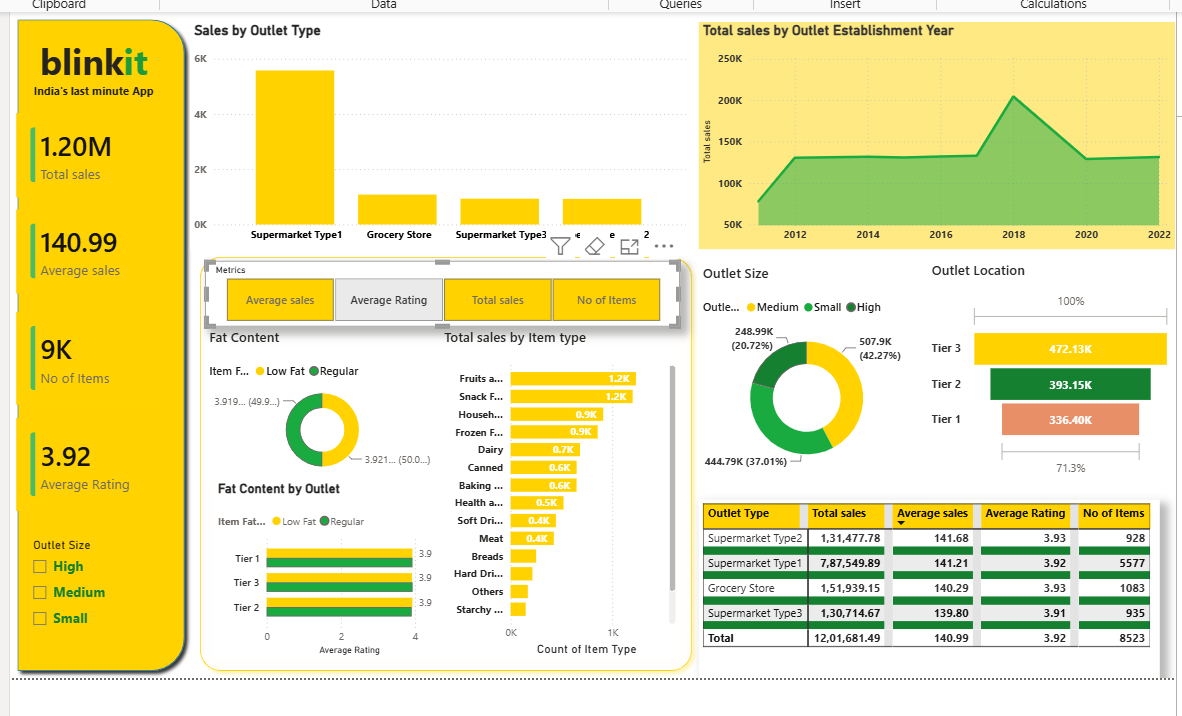

Layout of this report page (visuals, bound fields, positions):
{"tool":"powerbi","page":{"name":"Page 2","canvas":[1400,800],"ordinal":0},"visuals":[{"type":"shape","box":[0,0,218.8,800.3],"z":0},{"type":"textbox","box":[0,24.5,201.1,137.2],"z":1000},{"type":"shape","box":[218.8,285.3,608.7,514.9],"z":3000},{"type":"donutChart","title":"Fat Content","fields":{"Category":["BlinkIT Grocery Data (2).Item Fat Content"],"Y":["BlinkIT Grocery Data (2).Average sales"]},"box":[234.1,378.2,282.2,184.6],"z":4000},{"type":"slicer","fields":{"Values":["Metrics.Metrics"]},"box":[233.7,298.9,570.7,78.8],"z":5000},{"type":"clusteredBarChart","title":"Fat Content by Outlet","fields":{"Category":["BlinkIT Grocery Data (2).Outlet Location Type"],"Series":["BlinkIT Grocery Data (2).Item Fat Content"],"Y":["BlinkIT Grocery Data (2).Average sales"]},"box":[244.6,562.5,271.7,214.7],"z":6000},{"type":"barChart","title":"Total sales by Item type","fields":{"Category":["BlinkIT Grocery Data (2).Item Type"],"Y":["CountNonNull(BlinkIT Grocery Data (2).Item Type)"]},"box":[516.3,378.2,288.2,399.2],"z":7000},{"type":"lineChart","fields":{"Category":["BlinkIT Grocery Data (2).Outlet Establishment Year"],"Y":["BlinkIT Grocery Data (2).Total sales"]},"box":[827,12,571.8,273.2],"z":8000},{"type":"donutChart","title":" Outlet Size","fields":{"Category":["BlinkIT Grocery Data (2).Outlet Size"],"Y":["BlinkIT Grocery Data (2).Total sales"]},"box":[827.5,301.6,259.5,260.9],"z":9000},{"type":"funnel","title":" Outlet Location ","fields":{"Category":["BlinkIT Grocery Data (2).Outlet Location Type"],"Y":["BlinkIT Grocery Data (2).Total sales"]},"box":[1101.9,298.9,297.6,263.6],"z":10000},{"type":"pivotTable","fields":{"Rows":["BlinkIT Grocery Data (2).Outlet Type"],"Values":["BlinkIT Grocery Data (2).Total sales","BlinkIT Grocery Data (2).Average sales","BlinkIT Grocery Data (2).Average Rating","BlinkIT Grocery Data (2).No of Items"]},"box":[827,585.3,553.8,214.6],"z":11000},{"type":"slicer","fields":{"Values":["BlinkIT Grocery Data (2).Outlet Size"]},"box":[15,625.9,186.1,133.6],"z":12000},{"type":"cardVisual","fields":{"Data":["BlinkIT Grocery Data (2).Total sales"]},"box":[7.5,121.6,186.1,100.6],"z":13000},{"type":"cardVisual","fields":{"Data":["BlinkIT Grocery Data (2).Average sales"]},"box":[7.5,237.1,186.1,100.6],"z":14000},{"type":"cardVisual","fields":{"Data":["BlinkIT Grocery Data (2).No of Items"]},"box":[7.5,360.2,186.1,111.1],"z":15000},{"type":"cardVisual","fields":{"Data":["BlinkIT Grocery Data (2).Average Rating"]},"box":[7.5,487.8,186.1,111.1],"z":16000},{"type":"columnChart","title":" Sales by Outlet Type","fields":{"Category":["BlinkIT Grocery Data (2).Outlet Type"],"Y":["CountNonNull(BlinkIT Grocery Data (2).Sales)"]},"box":[216.1,12,600.3,273.2],"z":17000}]}

Visuals, with their boxes on the page's 1400x800 design canvas (x1, y1, x2, y2). These are canvas units, not pixel positions in the 1182x716 screenshot, which may show the page scaled, cropped or inside an application window:
shape: locate(0, 0, 219, 800)
textbox: locate(0, 24, 201, 162)
shape: locate(219, 285, 828, 800)
"Fat Content" donutChart: locate(234, 378, 516, 563)
slicer - Metrics.Metrics: locate(234, 299, 804, 378)
"Fat Content by Outlet" clusteredBarChart: locate(245, 562, 516, 777)
"Total sales by Item type" barChart: locate(516, 378, 804, 777)
lineChart - BlinkIT Grocery Data (2).Outlet Establishment Year x BlinkIT Grocery Data (2).Total sales: locate(827, 12, 1399, 285)
" Outlet Size" donutChart: locate(828, 302, 1087, 562)
" Outlet Location " funnel: locate(1102, 299, 1400, 562)
pivotTable - BlinkIT Grocery Data (2).Outlet Type x BlinkIT Grocery Data (2).Total sales: locate(827, 585, 1381, 800)
slicer - BlinkIT Grocery Data (2).Outlet Size: locate(15, 626, 201, 760)
cardVisual - BlinkIT Grocery Data (2).Total sales: locate(8, 122, 194, 222)
cardVisual - BlinkIT Grocery Data (2).Average sales: locate(8, 237, 194, 338)
cardVisual - BlinkIT Grocery Data (2).No of Items: locate(8, 360, 194, 471)
cardVisual - BlinkIT Grocery Data (2).Average Rating: locate(8, 488, 194, 599)
" Sales by Outlet Type" columnChart: locate(216, 12, 816, 285)
